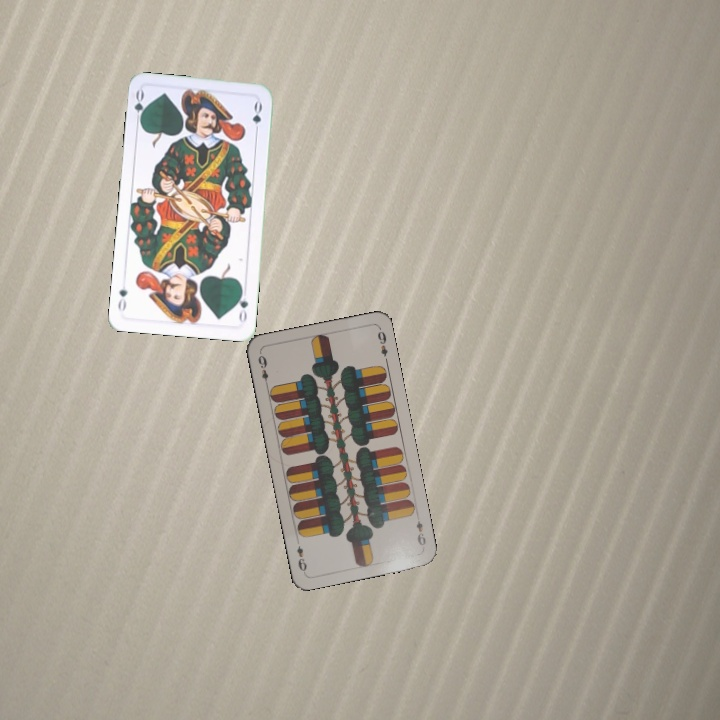E9: (254, 349, 271, 390), (412, 517, 428, 548)
GO: (130, 86, 149, 127), (233, 285, 251, 325)
